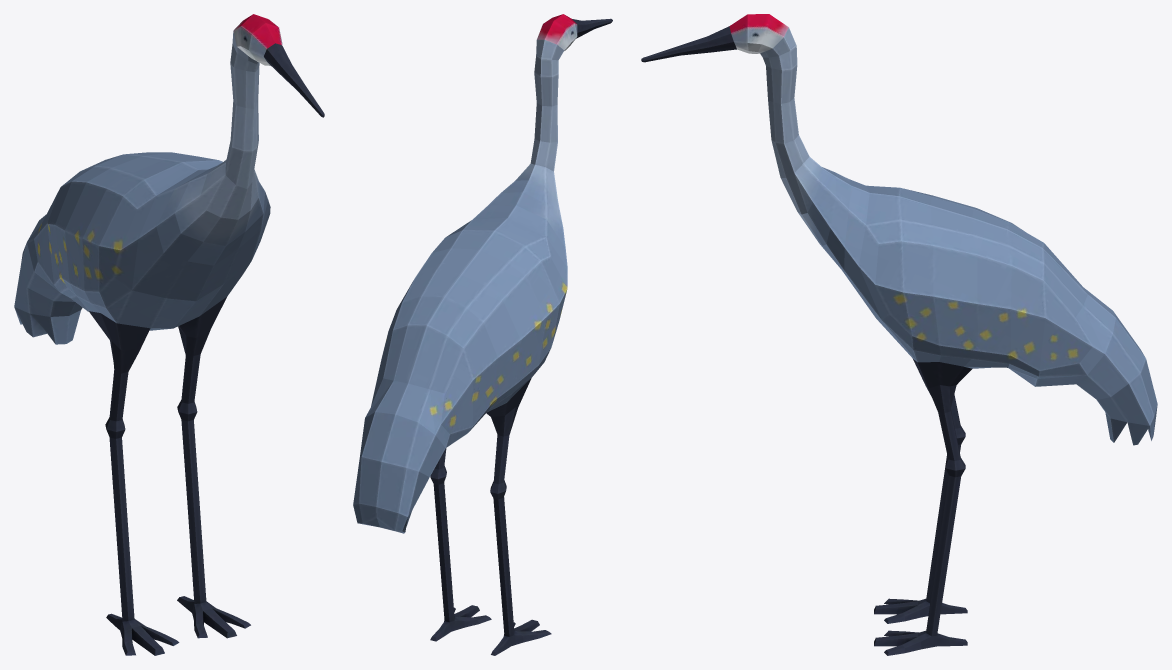
File: Crane.glb
3 views of the same model, side by side, from view 1: azimuth 30°, elevation 25°; view 2: azimuth 150°, elevation 25°; view 3: azimuth 270°, elevation 25° (orthographic). The views are drawn at different scales.
Parts seen in each view (by area): view 1: SandhillCrane_mesh; view 2: SandhillCrane_mesh; view 3: SandhillCrane_mesh.
Part boxes in pixels (<box>): SandhillCrane_mesh: <box>14,14,324,655</box>; SandhillCrane_mesh: <box>353,14,612,655</box>; SandhillCrane_mesh: <box>641,14,1157,655</box>.
Size of the model in its own units: 3.1 by 12.28 by 9.36.
1 material, 1 textured.
